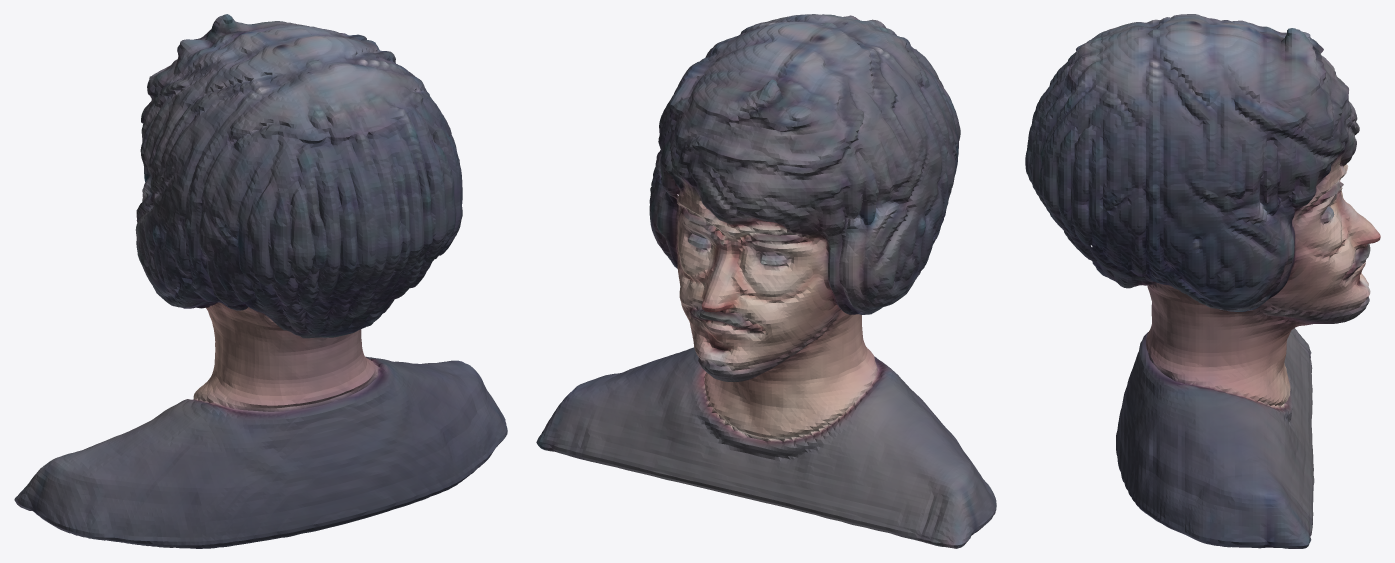
The model's file is avatar.glb.
The picture shows the model from 3 angles, left to right: view 1: azimuth 30°, elevation 25°; view 2: azimuth 150°, elevation 25°; view 3: azimuth 270°, elevation 25°; orthographic projection. The views are drawn at different scales.
Visible parts, largest first — view 1: world; view 2: world; view 3: world.
Part boxes in pixels (box(x1,y1,x2,y2)): world: box(14, 14, 507, 548); world: box(536, 14, 996, 548); world: box(1025, 14, 1380, 548).
Size of the model in its own units: 0.9277 by 0.9012 by 0.6802.
